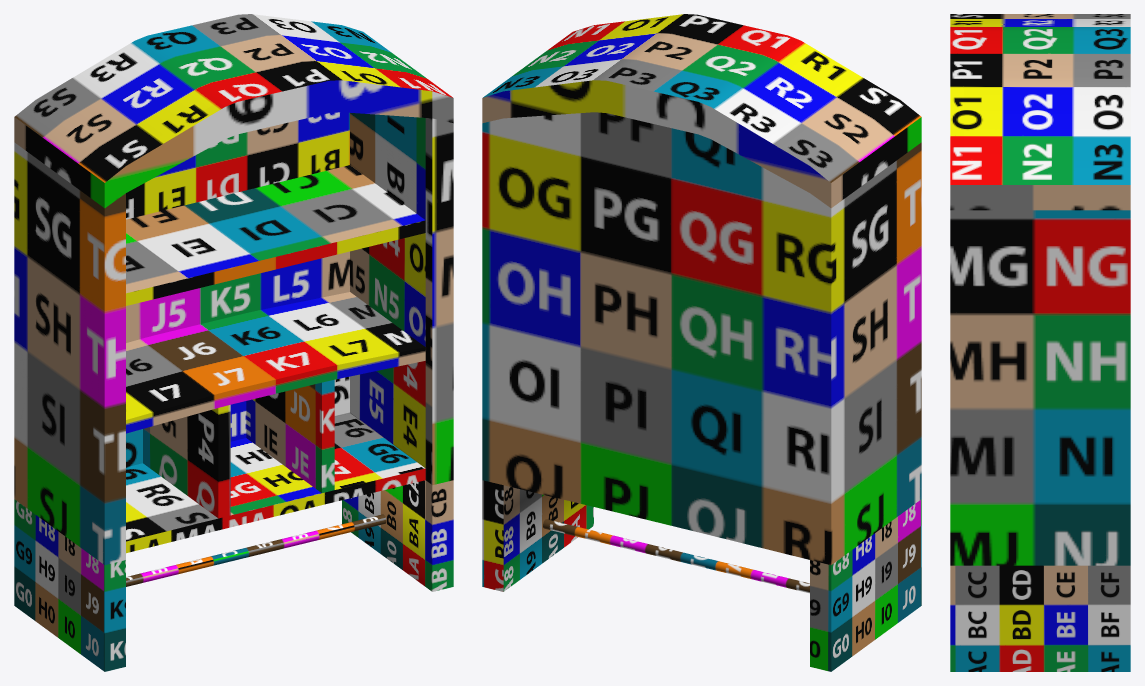
The model's file is cabinet2.FBX.
3 views of the same model, side by side, from view 1: azimuth 30°, elevation 25°; view 2: azimuth 150°, elevation 25°; view 3: azimuth 270°, elevation 25° (orthographic).
Visible parts, largest first — view 1: Box007, Cylinder006; view 2: Box007, Cylinder006; view 3: Box007.
Boxes of the visible parts, x1=… form: Box007: x1=14, y1=14, x2=453, y2=671; Cylinder006: x1=126, y1=514, x2=386, y2=586; Box007: x1=482, y1=14, x2=921, y2=671; Cylinder006: x1=543, y1=519, x2=809, y2=593; Box007: x1=950, y1=14, x2=1130, y2=671.
Bounding box in the file's own units: 1.04 × 1.53 × 0.4666.
1 material, 1 textured.
